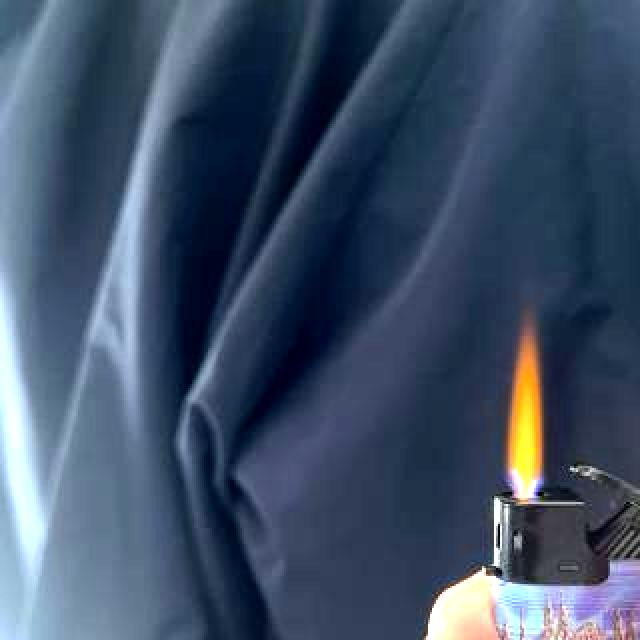fire: (501, 323, 547, 487)
